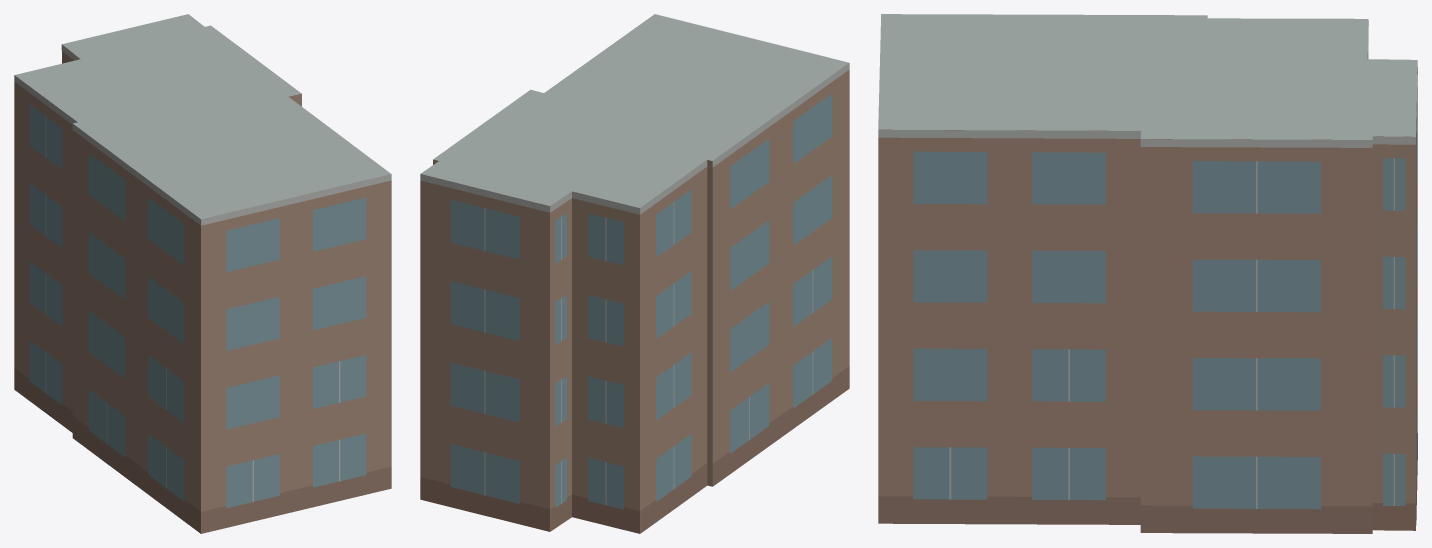
File: survey-upis-32670371.glb
3 renders of one model, left to right at view 1: azimuth 30°, elevation 25°; view 2: azimuth 150°, elevation 25°; view 3: azimuth 270°, elevation 25°, orthographic. The views are drawn at different scales.
Visible parts, largest first — view 1: survey-upis-32670371.tmp; view 2: survey-upis-32670371.tmp; view 3: survey-upis-32670371.tmp.
Boxes of the visible parts, x1,y1,x2,y2 form: survey-upis-32670371.tmp: (14, 14, 391, 533); survey-upis-32670371.tmp: (420, 14, 849, 533); survey-upis-32670371.tmp: (878, 14, 1417, 533).
Size of the model in its own units: 8.24 by 12.01 by 14.92.
